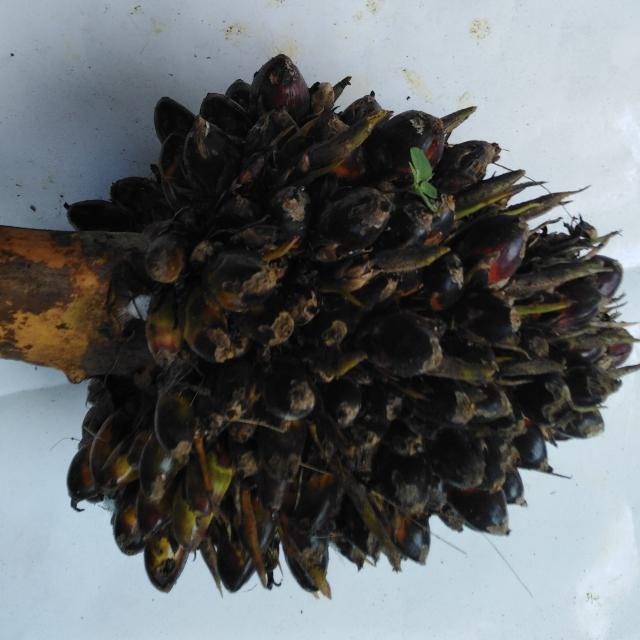FFB: (73, 58, 634, 603)
